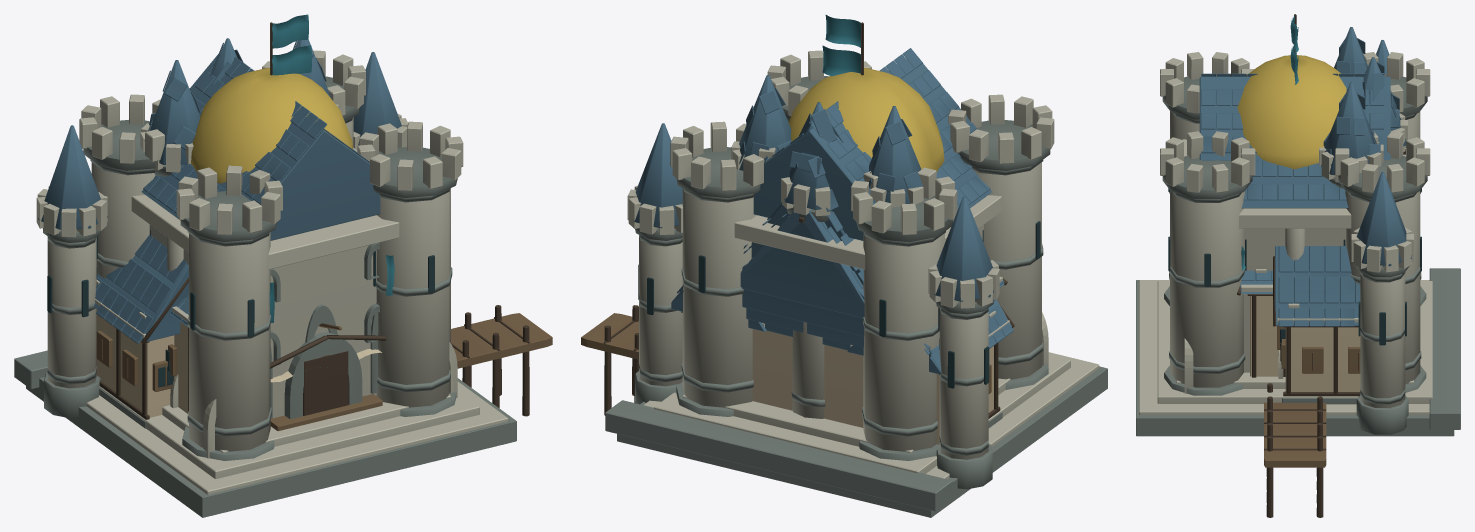
Rendered from frontier-near-BPXe79on.glb.
The picture shows the model from 3 angles, left to right: view 1: azimuth 30°, elevation 25°; view 2: azimuth 150°, elevation 25°; view 3: azimuth 270°, elevation 25°; orthographic projection. The views are drawn at different scales.
Visible parts, largest first — view 1: part_167, part_191, part_166, part_190, part_193, part_169, part_30, part_26, asset__building__keep__alder__0_SlateTiles, part_24, part_3, part_196 (+19 smaller); view 2: part_167, part_24, part_30, part_191, part_166, part_182, part_193, part_190, part_181, part_26, part_169, asset__building__keep__alder__0_SlateTiles (+21 smaller); view 3: part_167, part_191, part_193, part_24, part_30, part_166, asset__building__keep__alder__0_SlateTiles, part_190, part_169, part_3, part_196, asset__building__towncenter__raven__2_SlateTiles (+20 smaller).
Part boxes in pixels (x1=…): part_167: x1=79, y1=50, x2=463, y2=451; part_191: x1=86, y1=147, x2=508, y2=494; part_166: x1=83, y1=76, x2=457, y2=460; part_190: x1=26, y1=302, x2=516, y2=517; part_193: x1=191, y1=68, x2=353, y2=183; part_169: x1=141, y1=54, x2=380, y2=240; part_30: x1=36, y1=114, x2=450, y2=457; part_26: x1=38, y1=40, x2=401, y2=229; asset__building__keep__alder__0_SlateTiles: x1=143, y1=56, x2=369, y2=213; part_24: x1=14, y1=228, x2=100, y2=417; part_3: x1=96, y1=309, x2=174, y2=417; part_196: x1=451, y1=313, x2=552, y2=368; part_167: x1=670, y1=50, x2=1054, y2=451; part_24: x1=605, y1=209, x2=993, y2=511; part_30: x1=627, y1=181, x2=1048, y2=459; part_191: x1=644, y1=195, x2=1099, y2=479; part_166: x1=676, y1=76, x2=1050, y2=460; part_182: x1=739, y1=75, x2=921, y2=317; part_193: x1=788, y1=68, x2=944, y2=172; part_190: x1=617, y1=366, x2=1107, y2=517; part_181: x1=752, y1=329, x2=863, y2=427; part_26: x1=633, y1=102, x2=993, y2=301; part_169: x1=753, y1=60, x2=991, y2=240; asset__building__keep__alder__0_SlateTiles: x1=764, y1=48, x2=990, y2=210; part_167: x1=1160, y1=52, x2=1430, y2=387; part_191: x1=1139, y1=139, x2=1432, y2=414; part_193: x1=1237, y1=55, x2=1346, y2=169; part_24: x1=1356, y1=266, x2=1460, y2=434; part_30: x1=1193, y1=114, x2=1413, y2=407; part_166: x1=1162, y1=74, x2=1427, y2=395; asset__building__keep__alder__0_SlateTiles: x1=1201, y1=73, x2=1384, y2=200; part_190: x1=1136, y1=280, x2=1454, y2=436; part_169: x1=1199, y1=76, x2=1390, y2=208; part_3: x1=1285, y1=327, x2=1360, y2=391; part_196: x1=1264, y1=402, x2=1326, y2=467; asset__building__towncenter__raven__2_SlateTiles: x1=1278, y1=246, x2=1360, y2=324.
Size of the model in its own units: 14.82 by 14 by 10.39.
